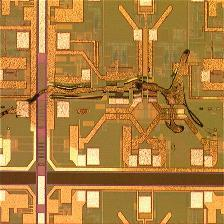BLOCK ETCH: (1, 45, 207, 142)
